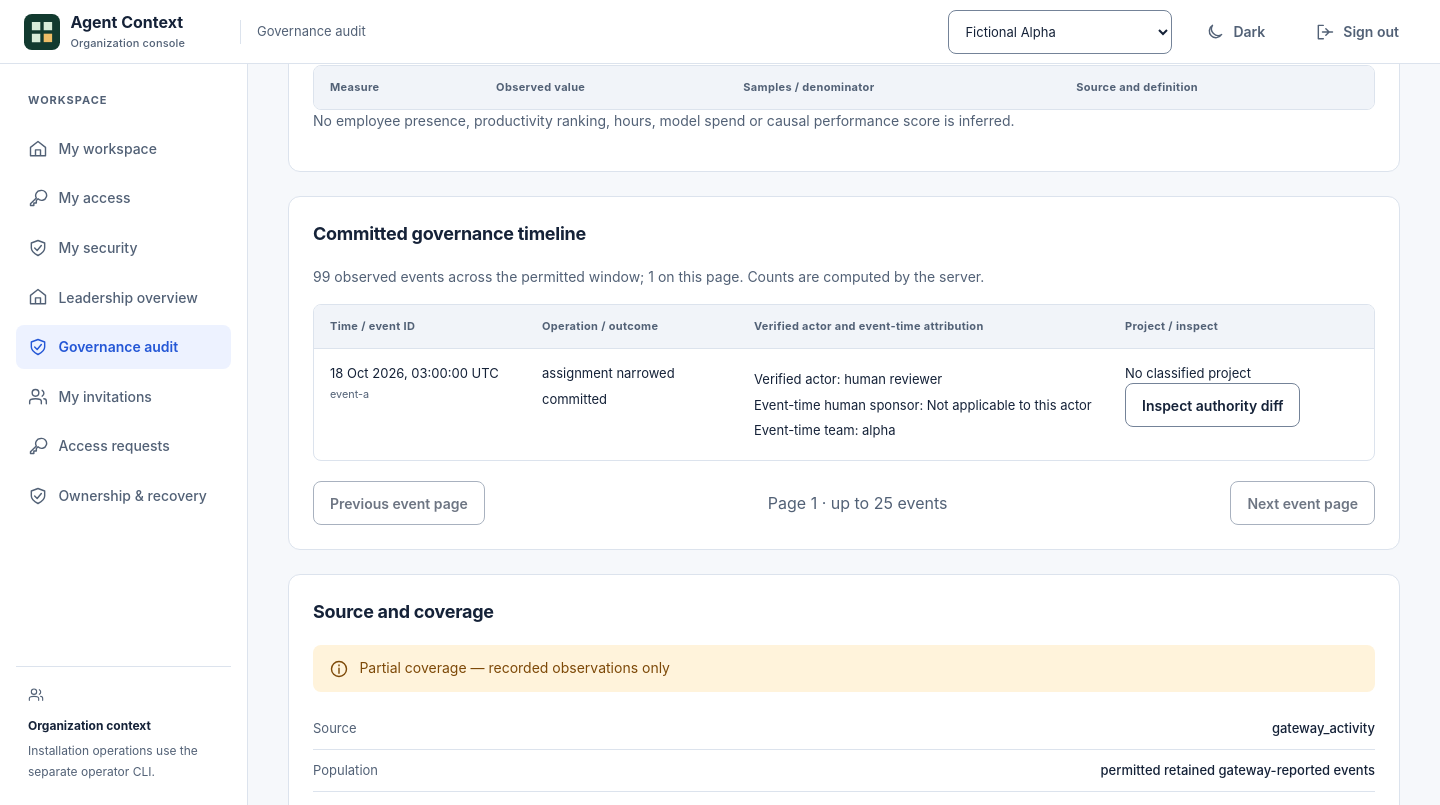
Test: redacted governance audit › keeps historical diff unavailability distinct from a current policy snapshot
(page scrolled)
Click the button with aria-label "Inspect authority diff event-a".
click(1213, 405)  # box [1125,383,1300,427]
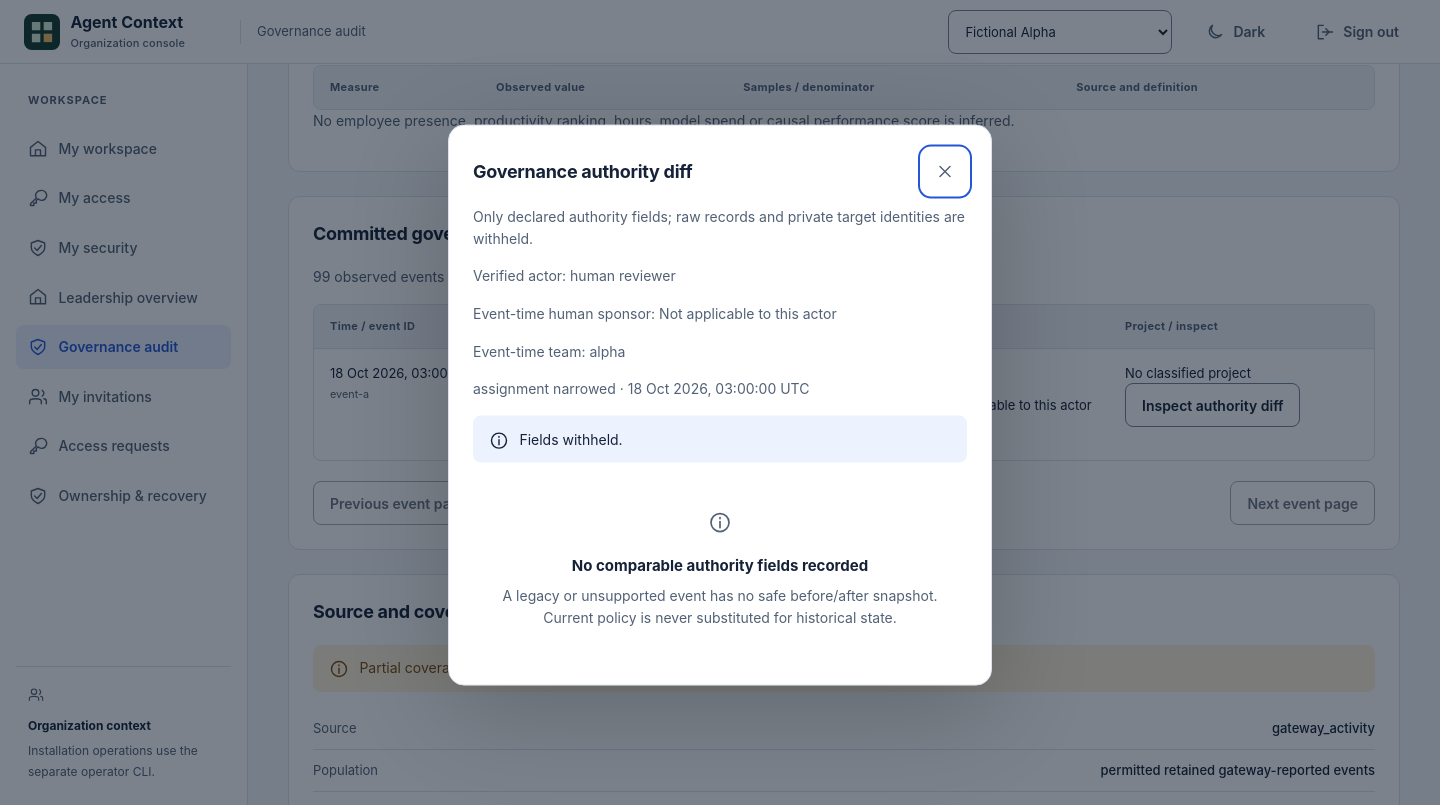
Expected: the heading "No comparable authority fields recorded" is shown, [572,556,868,575]
